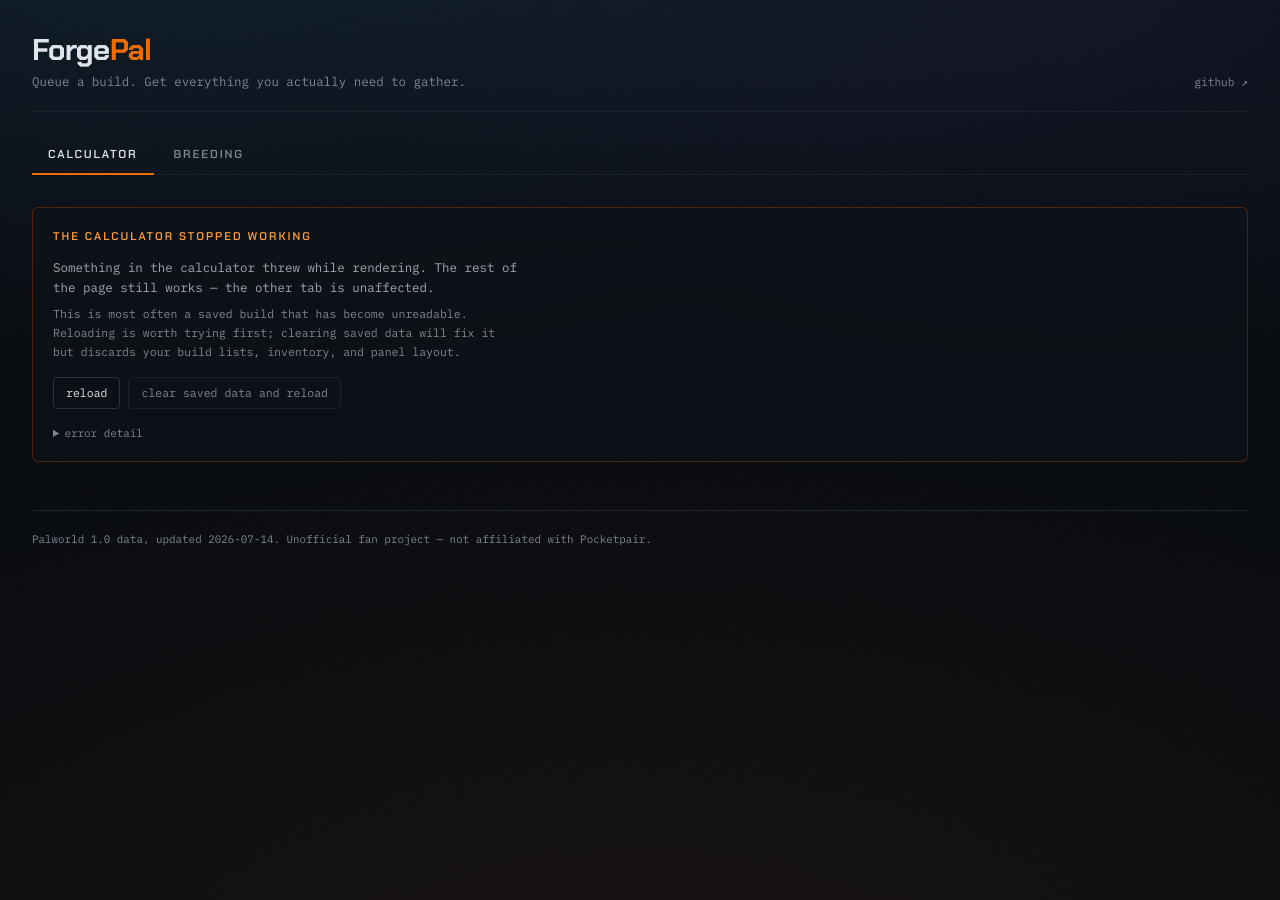
Test: a tab that throws › lets you switch to the working tab
Expected: the message is shown, [32, 207, 1248, 462]
Click the tab "Breeding".
click(209, 155)  # box [158, 136, 260, 175]
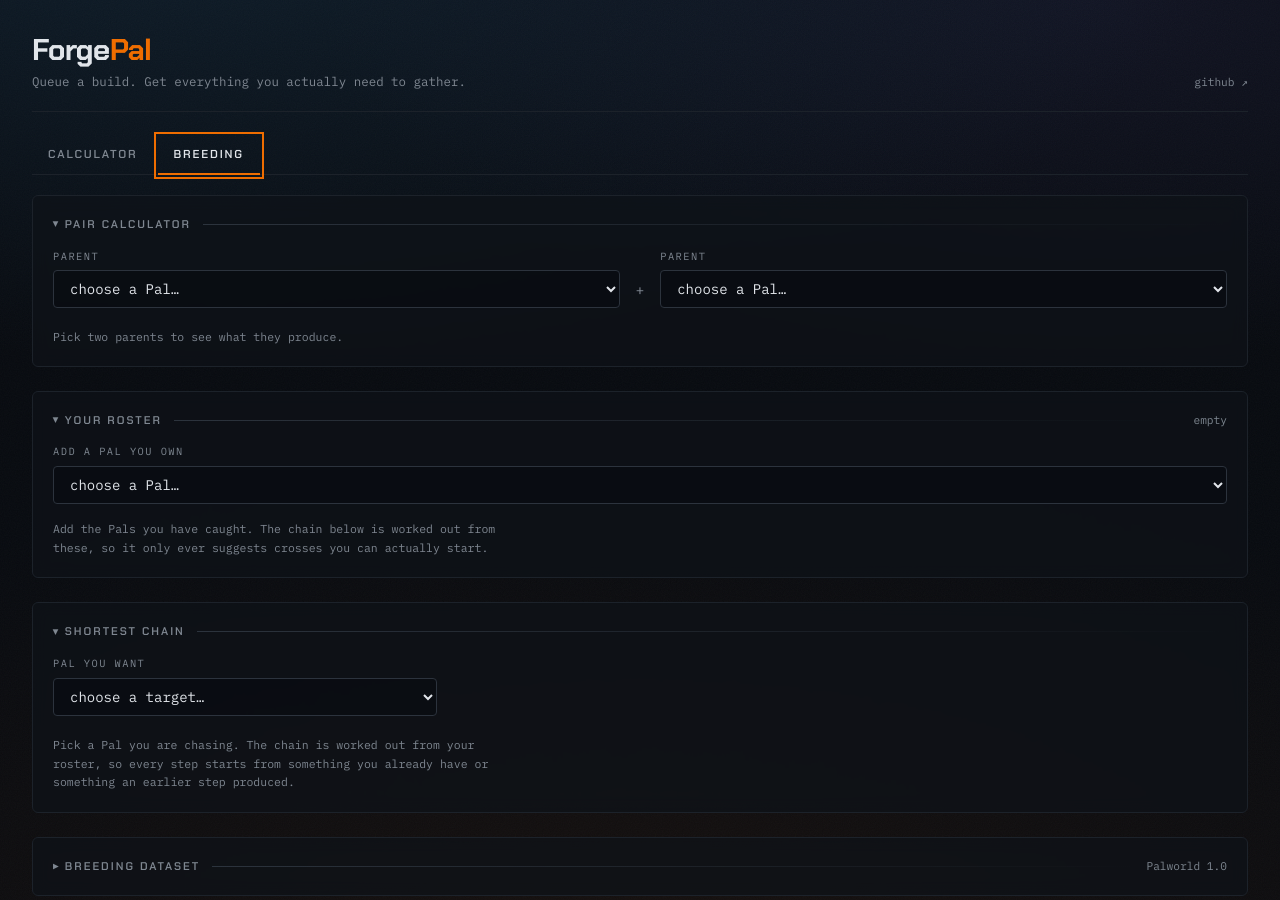
Expected: the heading "Breeding dataset" is shown, [65, 858, 200, 875]
